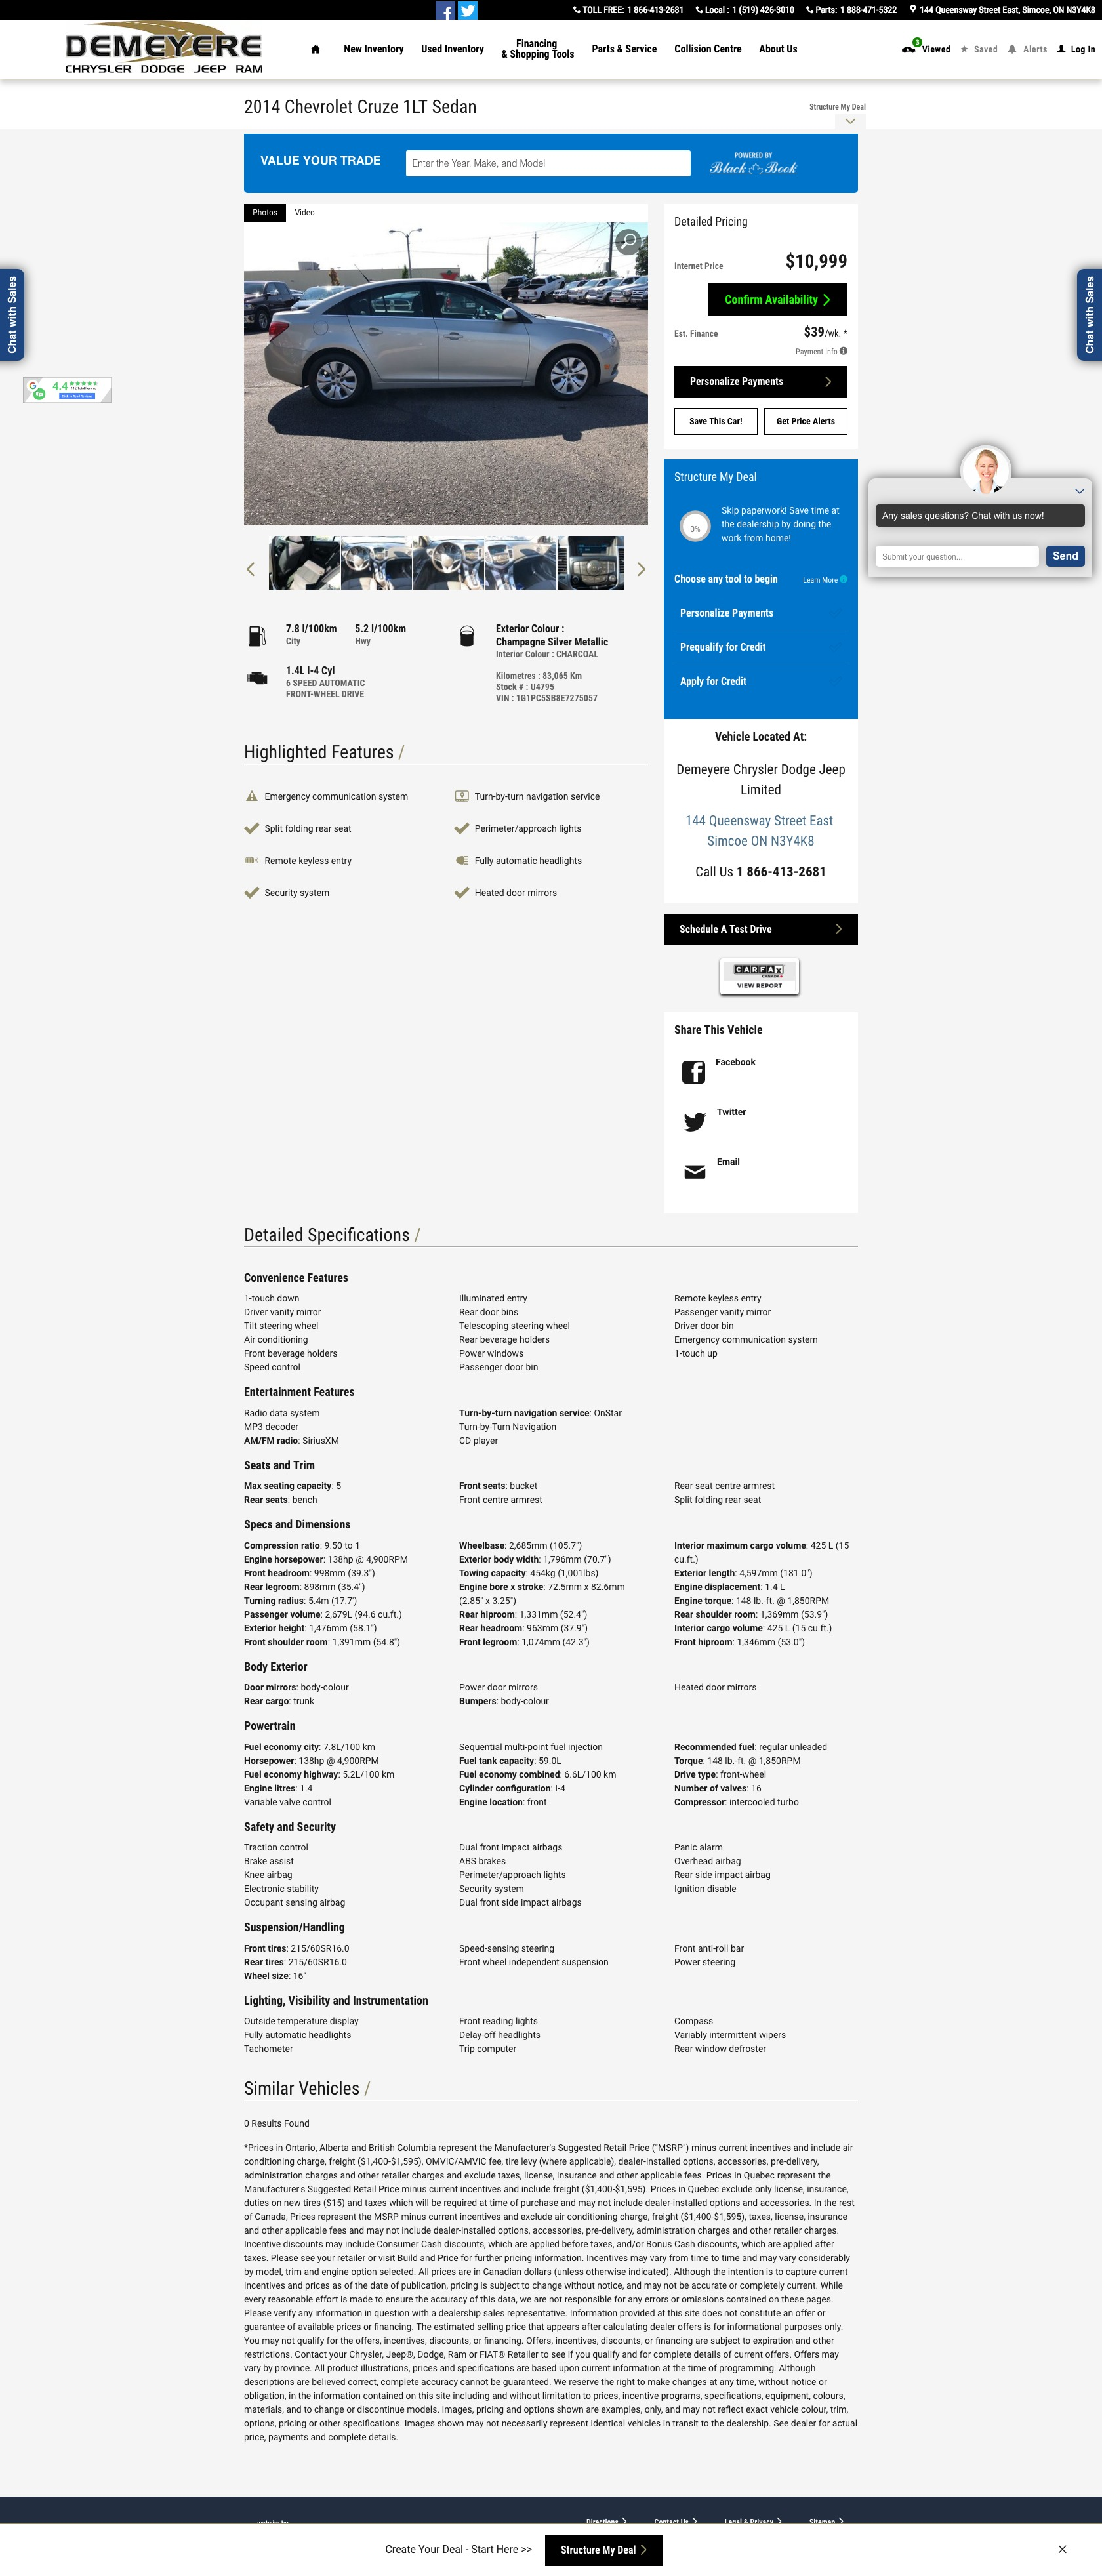car: (639, 562, 645, 578)
